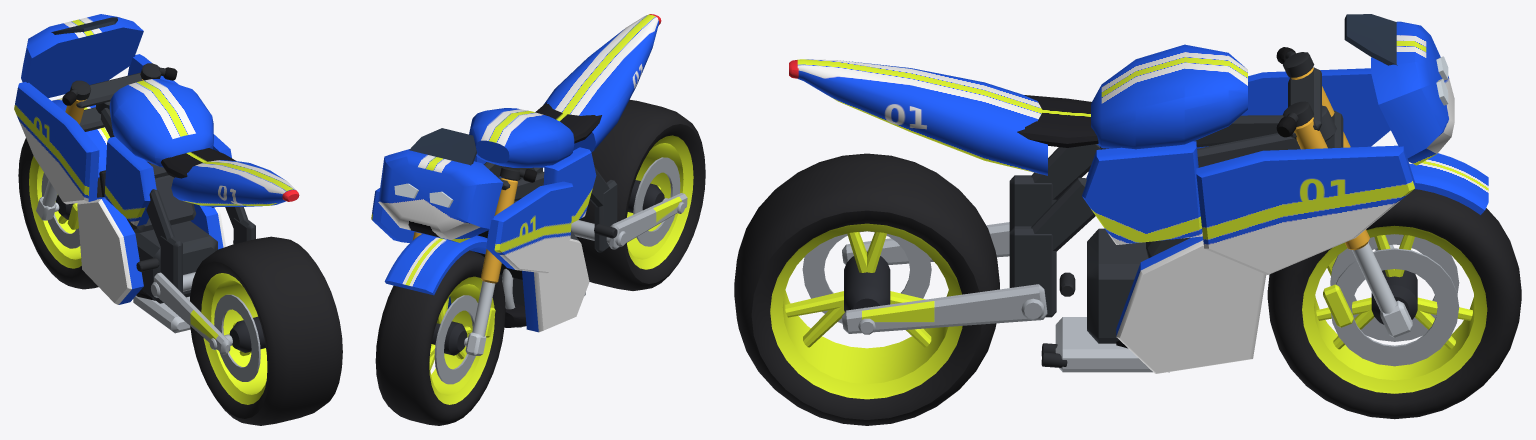
Rendered from MotorcycleTag_SuperBike.glb.
3 views of the same model, side by side, from view 1: azimuth 30°, elevation 25°; view 2: azimuth 150°, elevation 25°; view 3: azimuth 270°, elevation 25° (orthographic). The views are drawn at different scales.
Parts seen in each view (by area): view 1: Bodywork, RearWheel, FrontWheel, Engine, Frame, Fork, Swingarm, Seat, Handlebars, Exhaust, FrontFender, Windshield; view 2: Bodywork, FrontWheel, RearWheel, FrontFender, Fork, Frame, Swingarm, Windshield, Seat, Engine, Headlights, Handlebars (+1 smaller); view 3: Bodywork, RearWheel, FrontWheel, Frame, Swingarm, Fork, Engine, Exhaust, FrontFender, Seat, Windshield, Handlebars.
Part boxes in pixels (x1,y1,x2,y2): Bodywork: [14, 14, 295, 304]; RearWheel: [190, 236, 342, 425]; FrontWheel: [18, 138, 102, 289]; Engine: [99, 162, 217, 303]; Frame: [96, 101, 255, 293]; Fork: [36, 72, 143, 229]; Swingarm: [151, 272, 232, 354]; Seat: [161, 148, 236, 178]; Handlebars: [62, 63, 177, 105]; Exhaust: [133, 295, 190, 333]; FrontFender: [52, 98, 109, 178]; Windshield: [51, 17, 117, 34]; Bodywork: [371, 14, 659, 332]; FrontWheel: [375, 250, 505, 425]; RearWheel: [576, 100, 705, 290]; FrontFender: [384, 234, 487, 295]; Fork: [412, 176, 517, 355]; Frame: [484, 162, 617, 252]; Swingarm: [571, 193, 687, 249]; Windshield: [409, 128, 476, 165]; Seat: [535, 102, 601, 143]; Engine: [473, 200, 578, 306]; Headlights: [394, 183, 453, 207]; Handlebars: [499, 166, 536, 182]; Bodywork: [797, 21, 1454, 373]; RearWheel: [734, 153, 999, 425]; FrontWheel: [1267, 189, 1521, 419]; Frame: [1009, 105, 1336, 317]; Swingarm: [842, 222, 1047, 334]; Fork: [1288, 67, 1412, 337]; Engine: [1087, 228, 1190, 343]; Exhaust: [1041, 317, 1169, 372]; FrontFender: [1409, 153, 1488, 214]; Seat: [1017, 95, 1098, 147]; Windshield: [1344, 14, 1397, 65]; Handlebars: [1276, 47, 1314, 137].
Size of the model in its own units: 2.14 by 4.35 by 8.06.
Materials: 1 (1 with a texture image).
